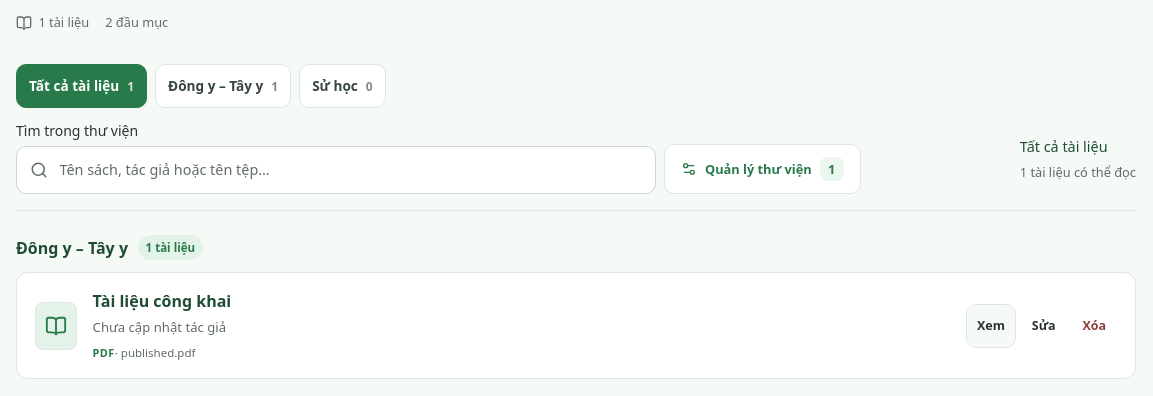
Test: LibraryAdminPage › filters books by category and resets the filter
Expected: the link "Xem" is shown, x1=966 y1=304 x2=1016 y2=348
Click the button "Sử học 0" at x=342, y=86, box x1=299 y1=64 x2=386 y2=108
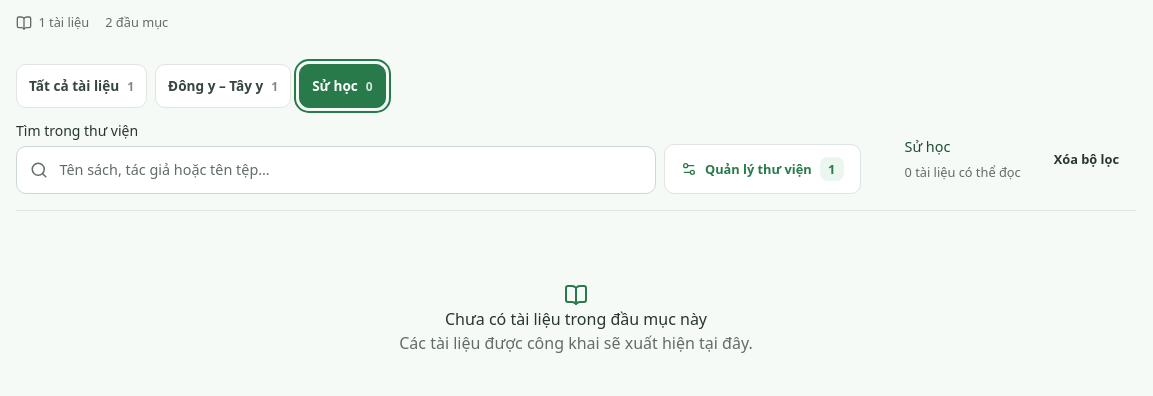
Now the link "Xem" is gone
Now the heading "Chưa có tài liệu trong đầu mục này" is shown, box x1=445 y1=307 x2=707 y2=331
Click the button "Xóa bộ lọc" at x=1086, y=159, box x1=1037 y1=137 x2=1136 y2=181
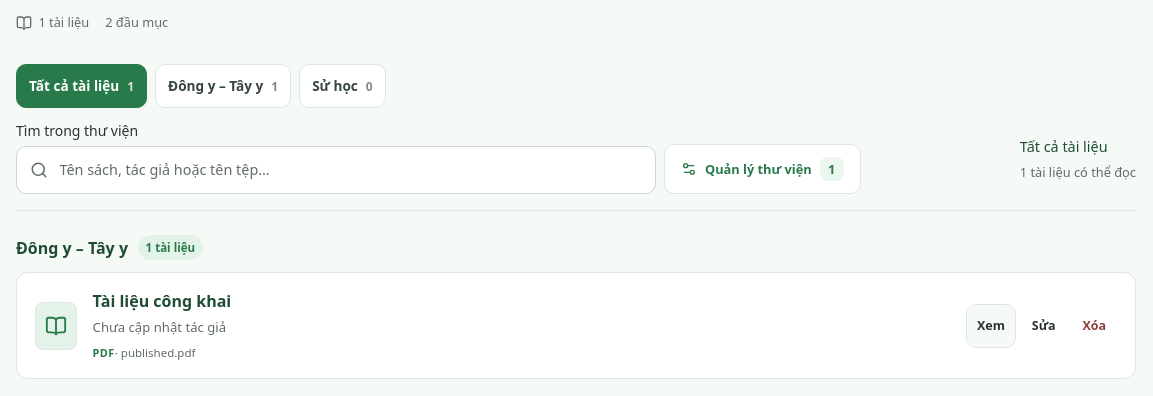
Now the link "Xem" is shown, box x1=966 y1=304 x2=1016 y2=348
